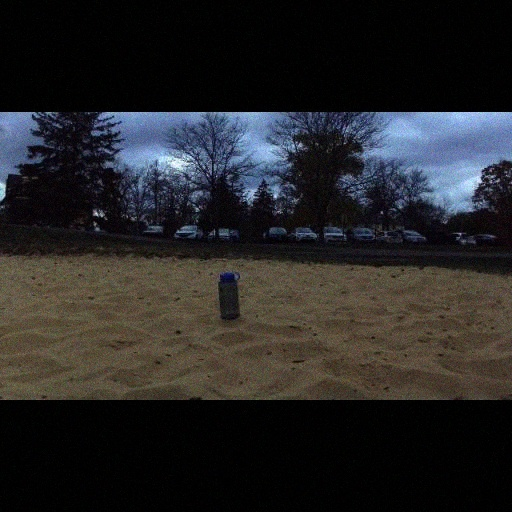bottle: (218, 272, 242, 322)
